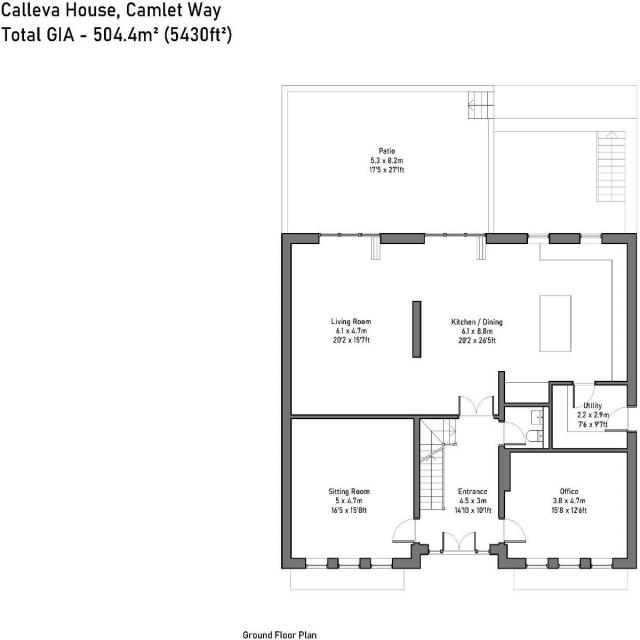DOOR: (603, 404, 637, 433), (441, 528, 477, 555), (572, 380, 599, 411), (498, 516, 527, 544), (391, 516, 420, 544), (499, 420, 528, 447)
DOUBLE DOOR: (455, 391, 495, 419)
ROOM: (281, 234, 637, 418), (281, 414, 429, 568), (498, 447, 637, 570)
WINDOW: (316, 232, 381, 241), (423, 231, 485, 240), (589, 556, 614, 570), (557, 556, 580, 571), (304, 557, 328, 571), (525, 557, 549, 571), (338, 557, 360, 570), (370, 557, 392, 570), (526, 231, 551, 240)
